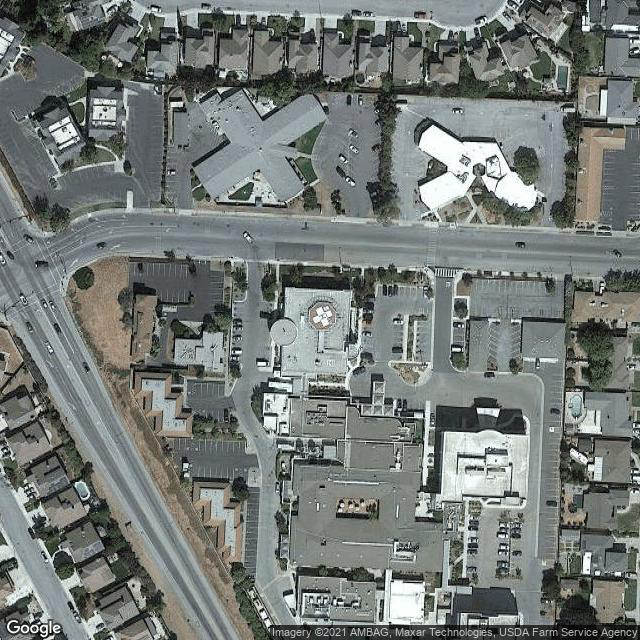Helipad: (308, 300, 335, 329)
